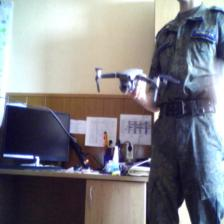drone: (92, 60, 175, 106)
